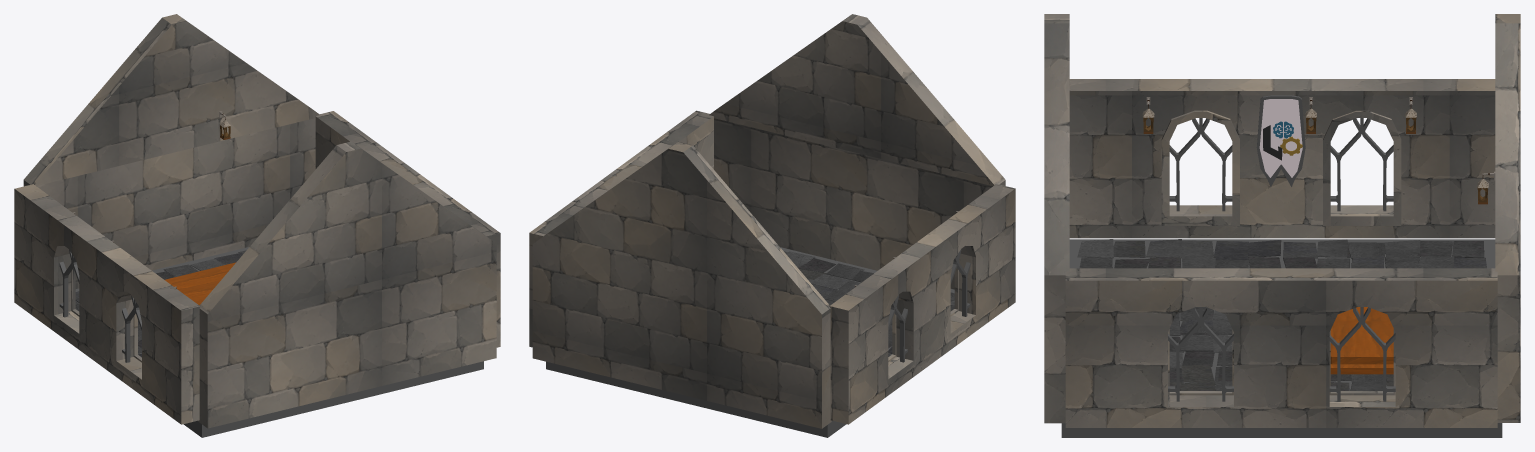
File: FLOOR.fbx
3 renders of one model, left to right at view 1: azimuth 30°, elevation 25°; view 2: azimuth 150°, elevation 25°; view 3: azimuth 270°, elevation 25°, orthographic. The views are drawn at different scales.
Parts seen in each view (by area): view 1: Cube.312; view 2: Cube.312; view 3: Cube.312.
Boxes of the visible parts, x1,y1,x2,y2 form: Cube.312: (14,14,500,437); Cube.312: (529,14,1015,437); Cube.312: (1044,14,1520,437).
Bounding box in the file's own units: 3783 × 2912 × 3777.
